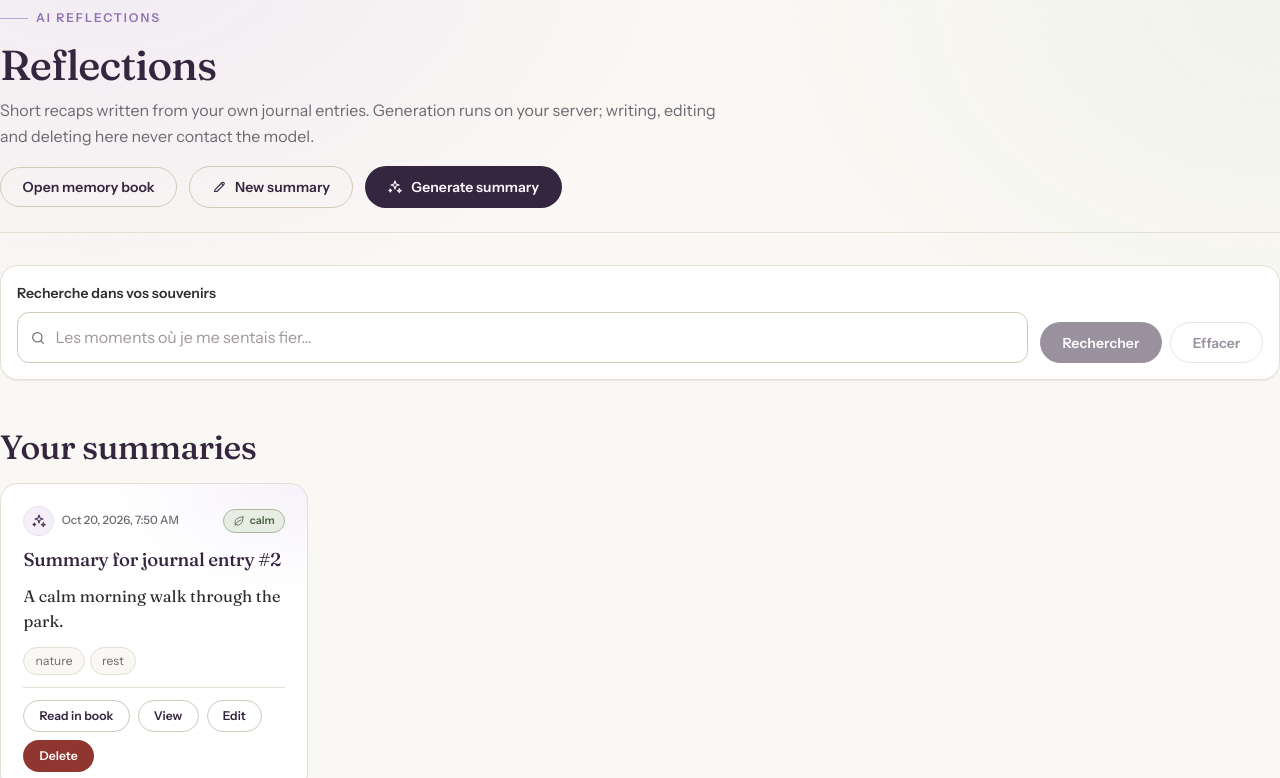
SummariesPage › updates a summary with PATCH and refreshes the list
Expected: the text "A calm morning walk through the park." is shown, [23,584,285,635]
Click the button with aria-label "Edit summary 1" at (234, 716), box [206,700,262,732]
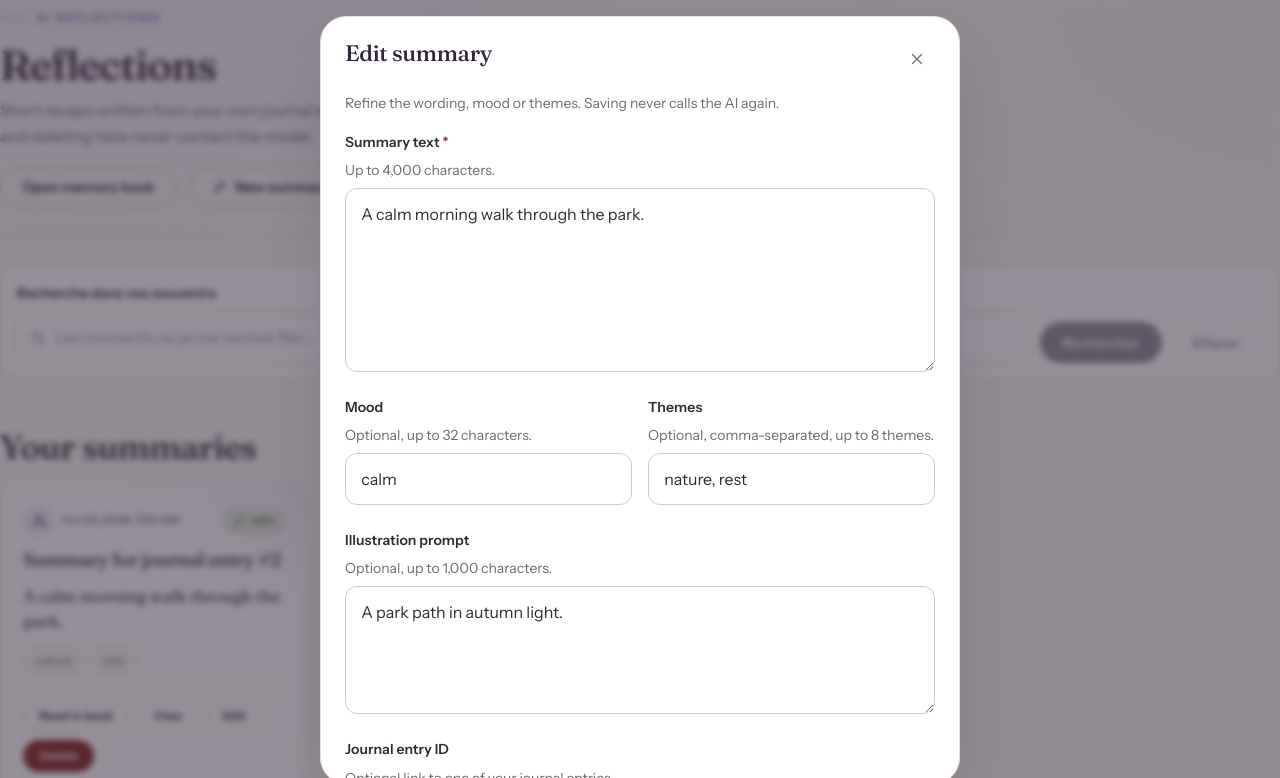
Replace the text in the text box labelled "Summary text *" with "An updated recap." at (640, 280), box [345,188,935,372]
(page scrolled)
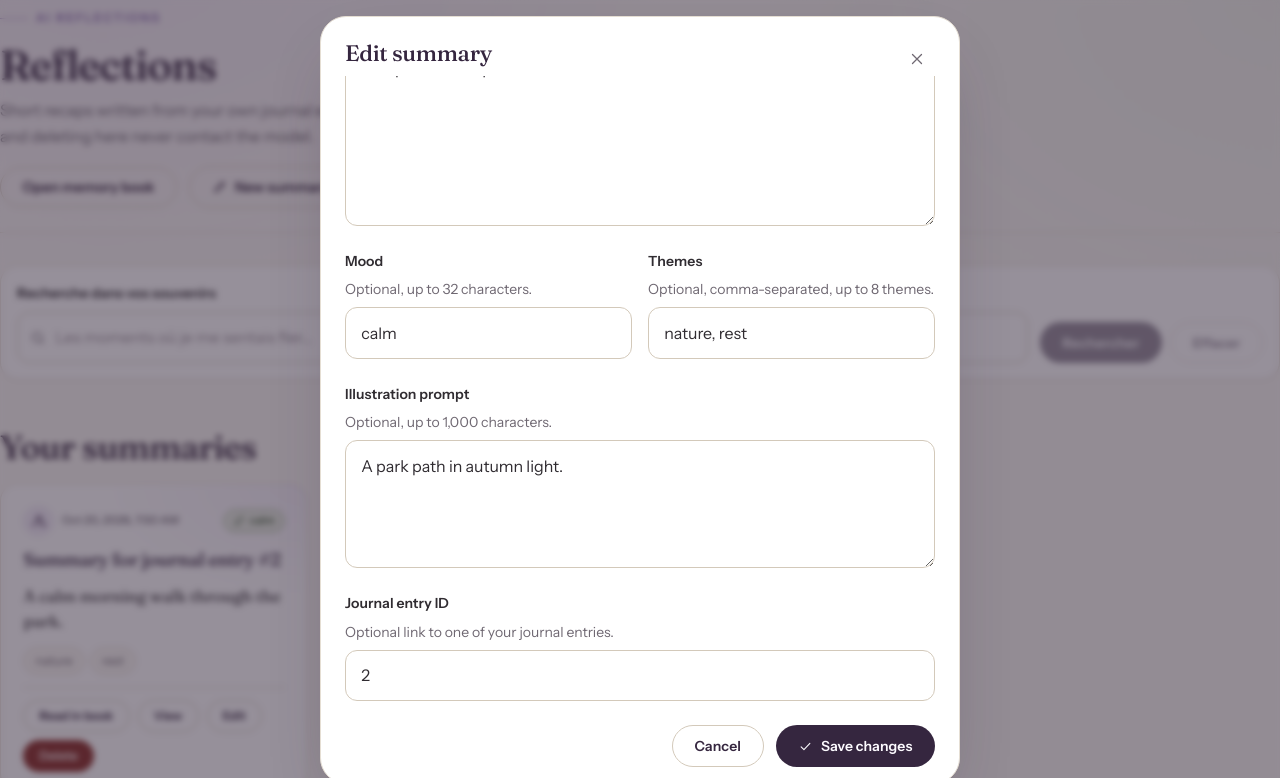
Click the button "Save changes" at (855, 746), box [776,725,935,767]
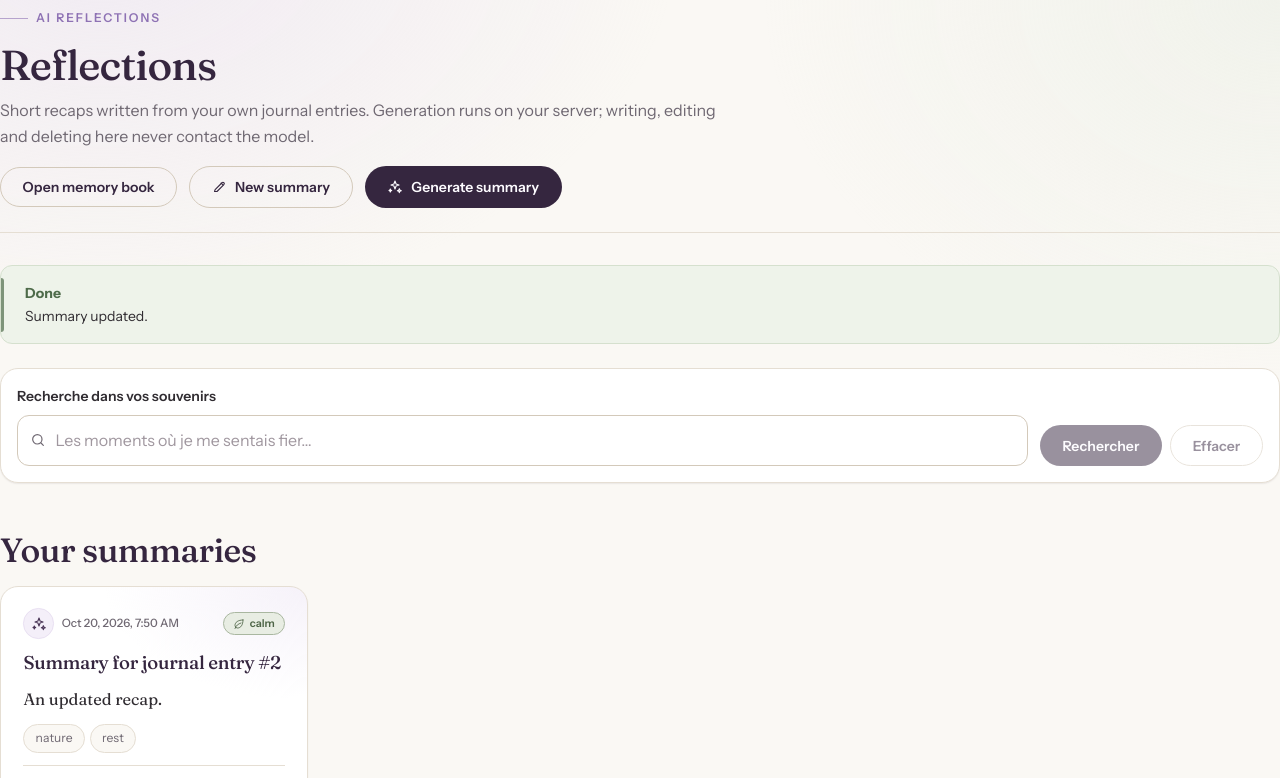
Now the text "Summary updated." is shown, box [25,307,148,325]
Now the text "An updated recap." is shown, box [23,689,162,709]
